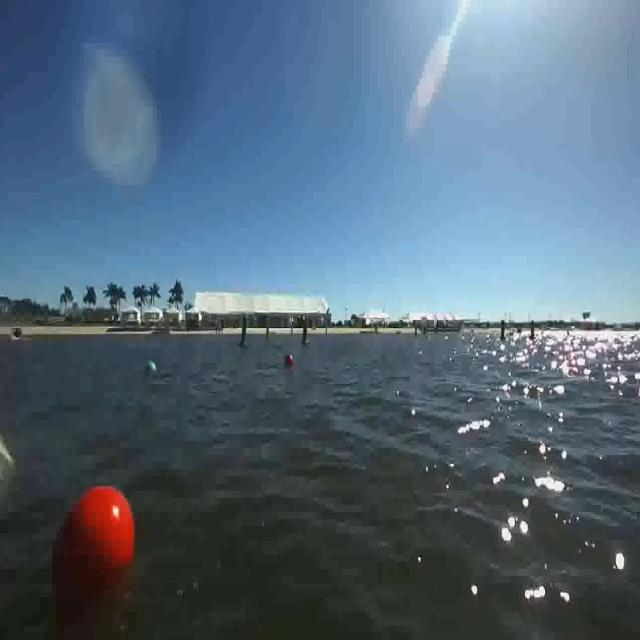green-buoy: (145, 360, 158, 379)
green-column-buoy: (236, 317, 249, 350)
red-buoy: (46, 480, 138, 623), (284, 352, 296, 370)
